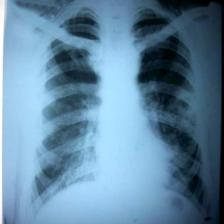tuberculosis: (21, 0, 212, 224)
